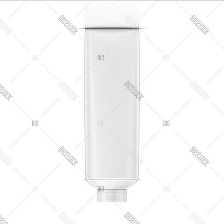carton: (80, 22, 145, 208)
